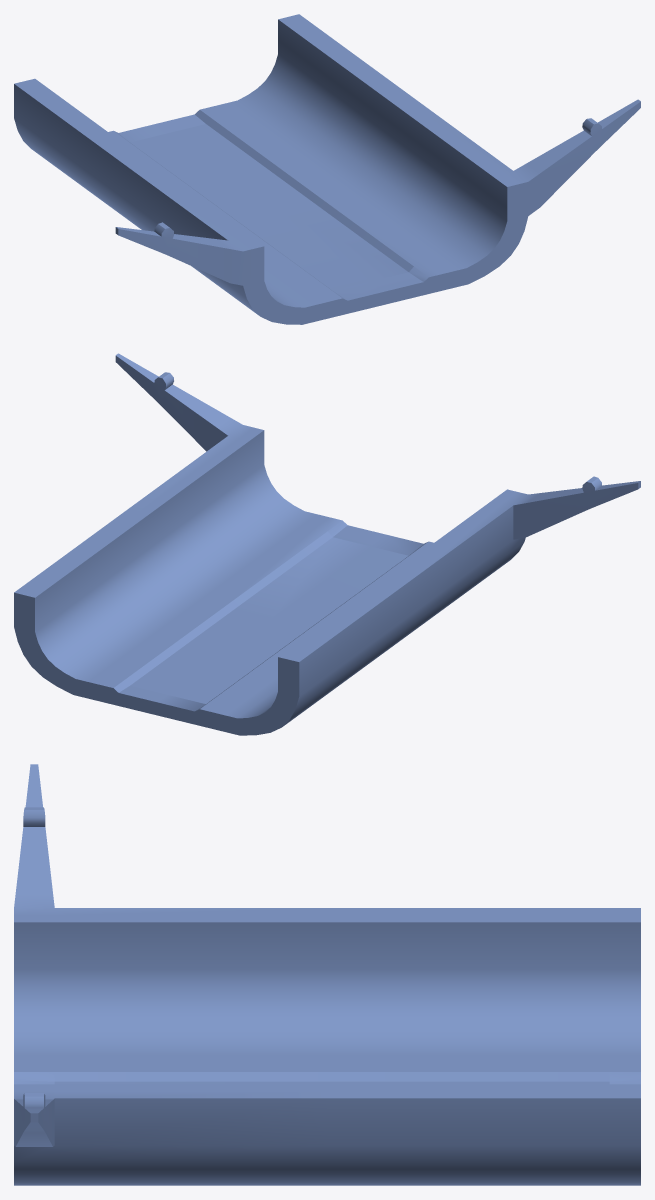
Rendered from staticmesh_Collisiontrack.fbx.
The picture shows the model from 3 angles, top to bottom: view 1: azimuth 30°, elevation 25°; view 2: azimuth 150°, elevation 25°; view 3: azimuth 270°, elevation 25°; orthographic projection. The views are drawn at different scales.
Visible parts, largest first — view 1: UCX_geo_Collisiontrack; view 2: UCX_geo_Collisiontrack; view 3: UCX_geo_Collisiontrack.
Part boxes in pixels (x1,y1,x2,y2): UCX_geo_Collisiontrack: (14,14,640,324); UCX_geo_Collisiontrack: (14,353,640,735); UCX_geo_Collisiontrack: (14,764,640,1185).
Size of the model in its own units: 4844 by 1195 by 3678.
